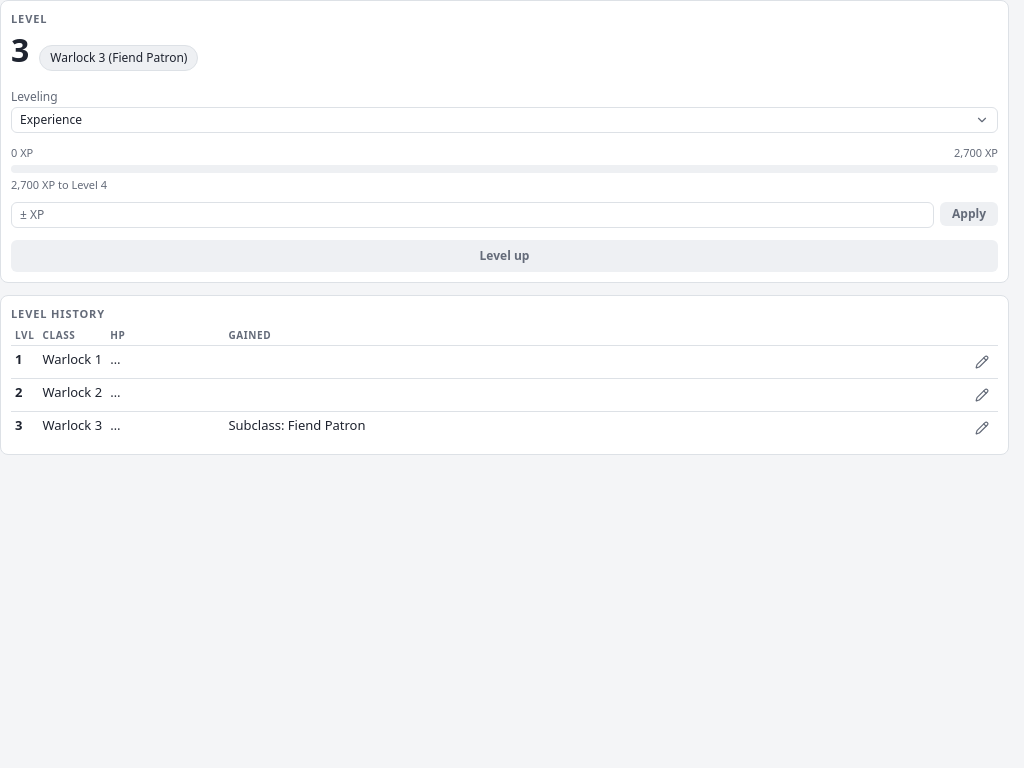
LevelHistory › changing a level's hit point gain › holds Apply until the gain or a choice changes, and discards a drafted gain on Cancel
The image size is (1024, 768).
Click the button named "Edit level 2".
click(982, 395)  # box [970,383,994,407]
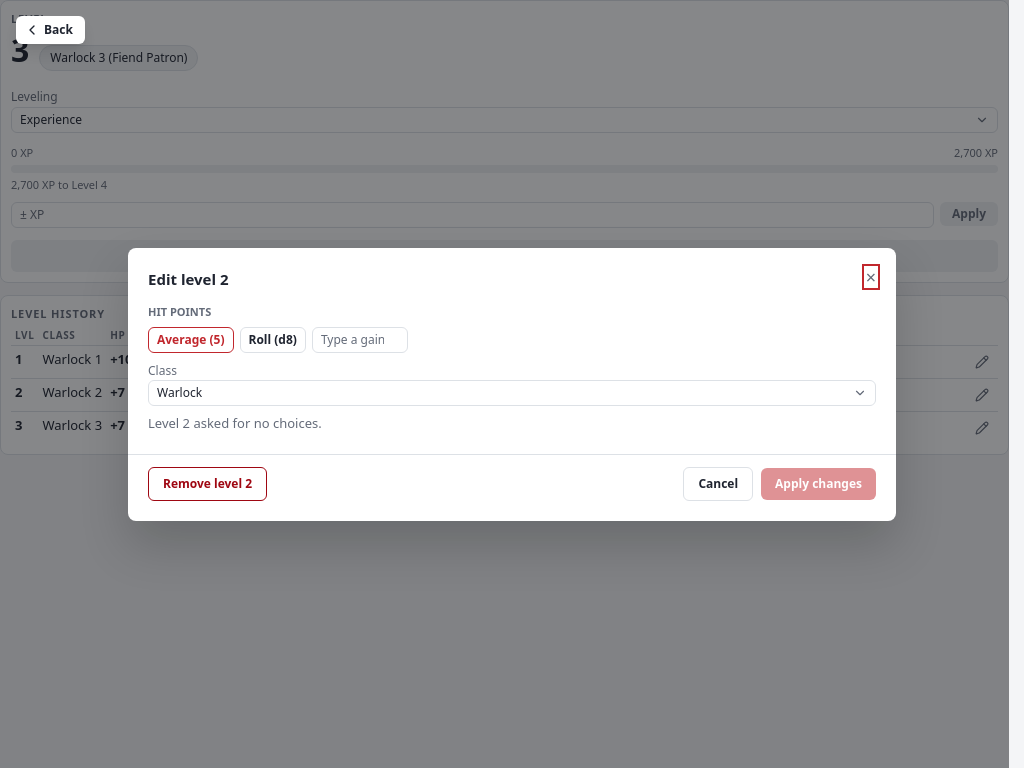
Expected: the number field named "Level 2 typed gain" is shown, [312,326,408,352]
Click the button "Roll (d8)".
click(273, 340)  # box [240,326,306,352]
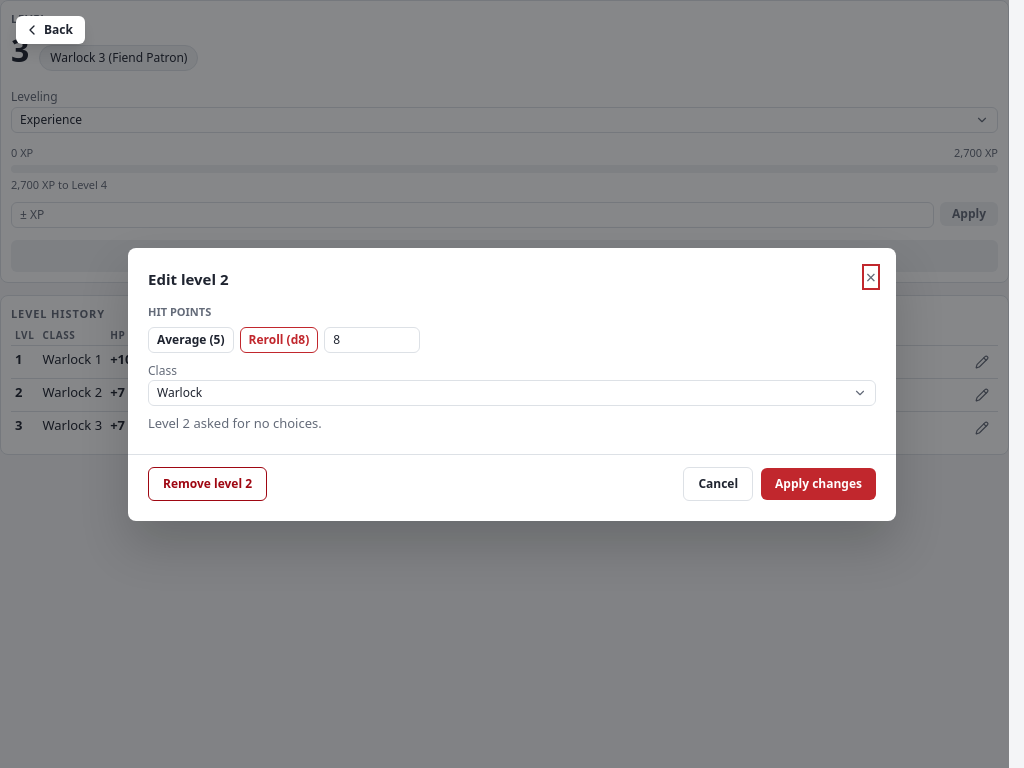
Expected: the button "Apply changes" is enabled, [761,468,876,500]
Click the button "Cancel".
click(718, 484)  # box [683,466,753,500]
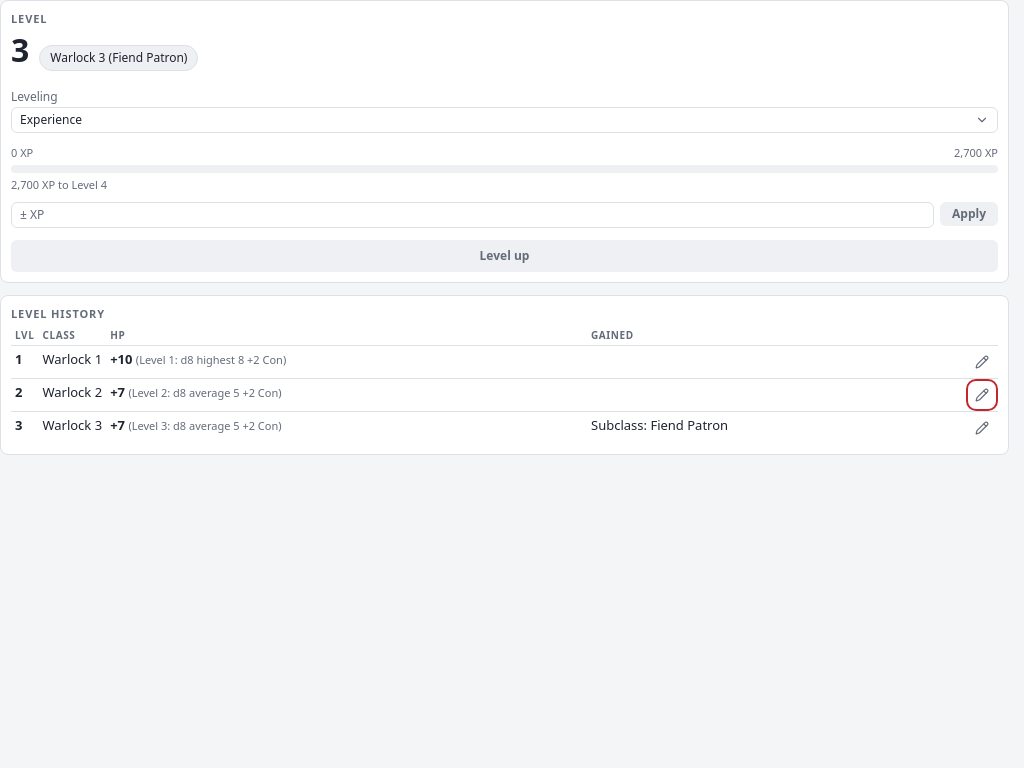
Click the button named "Edit level 2".
click(982, 395)  # box [970,383,994,407]
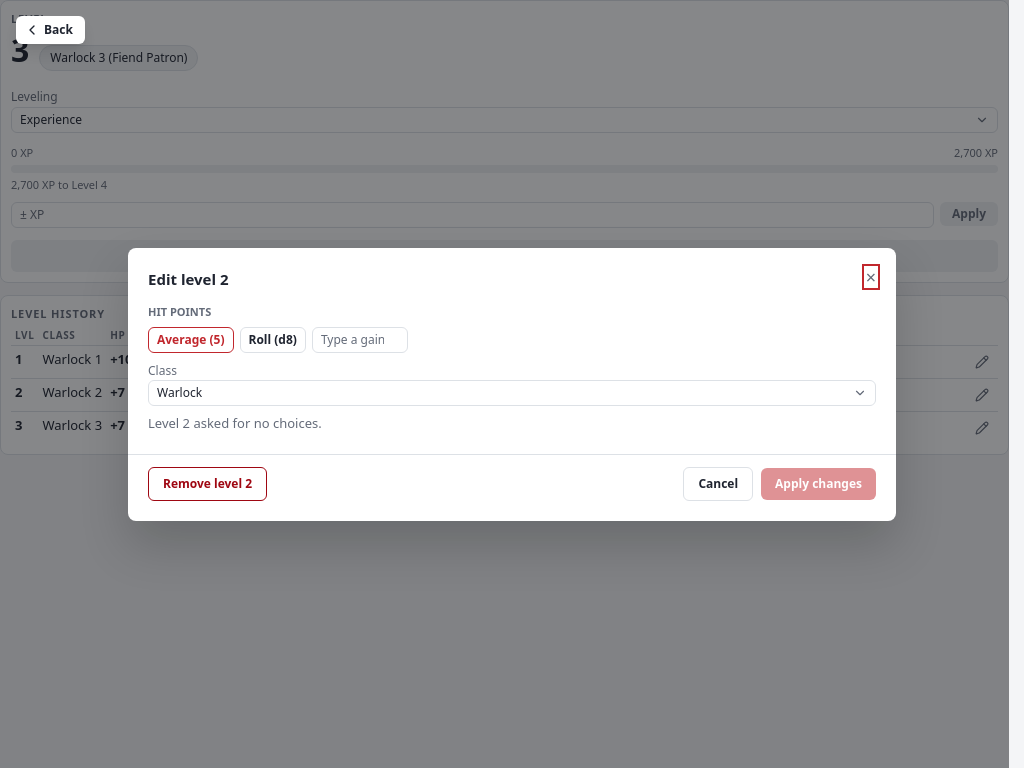
Expected: the text "Rolled" is not shown
Expected: the number field named "Level 2 typed gain" is shown, [312,326,408,352]
